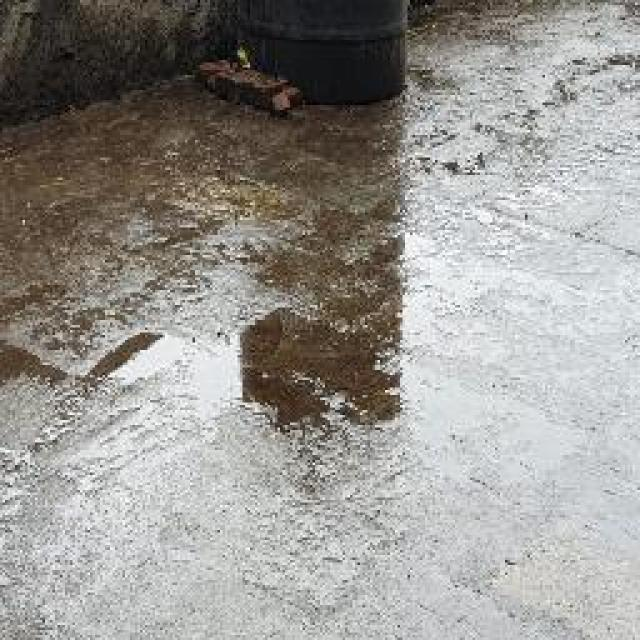stagnation: (80, 276, 404, 442)
